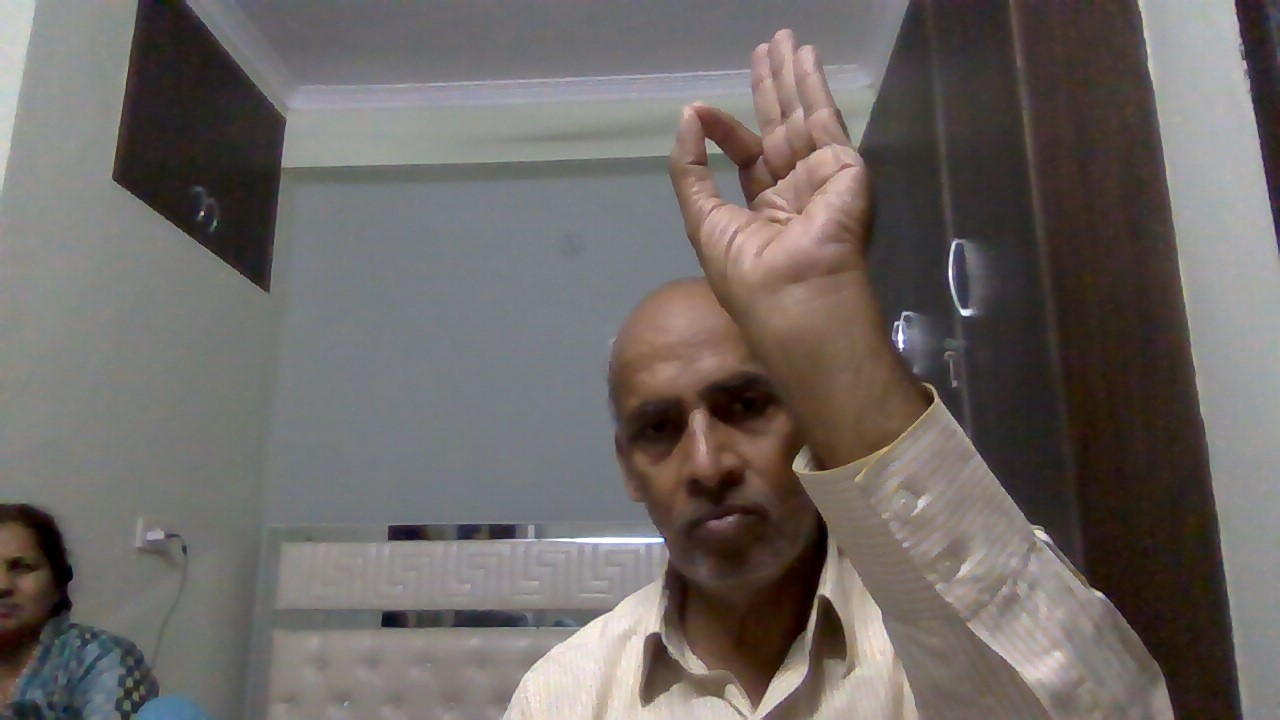Copy: (651, 18, 887, 324)
